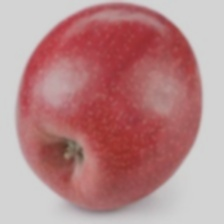apple: (22, 21, 175, 217)
